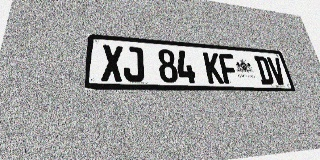4: (175, 50, 196, 83)
8: (157, 49, 179, 83)
D: (254, 56, 275, 85)
F: (218, 53, 239, 84)
J: (123, 46, 145, 82)
K: (203, 52, 224, 84)
V: (266, 57, 287, 85)
X: (101, 44, 123, 82)
